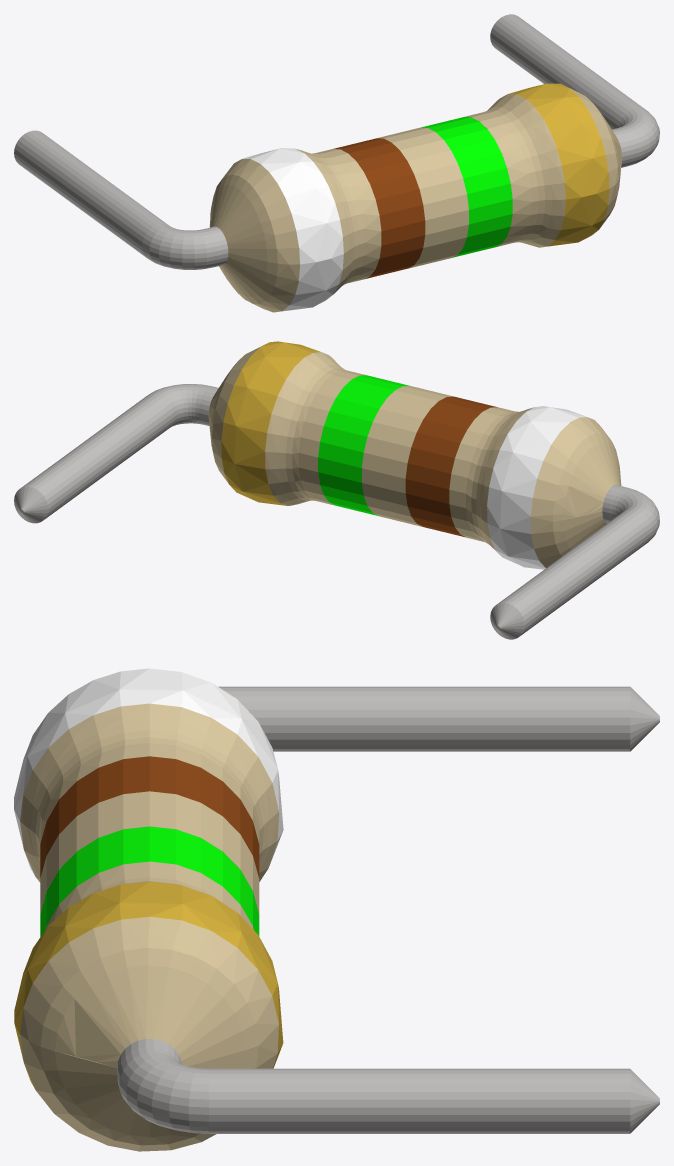
Rendered from Yageo CFR-25 Resistor Axial P7.62mm 9,1 MOhm.obj.
3 views of the same model, one above another, from view 1: azimuth 30°, elevation 25°; view 2: azimuth 150°, elevation 25°; view 3: azimuth 270°, elevation 25° (orthographic). The views are drawn at different scales.
Visible parts, largest first — view 1: Yageo_CFR-25_Resistor_Axial_P7.62mm_9,1_MOhm; view 2: Yageo_CFR-25_Resistor_Axial_P7.62mm_9,1_MOhm; view 3: Yageo_CFR-25_Resistor_Axial_P7.62mm_9,1_MOhm.
Boxes of the visible parts, box(x1,y1,x2,y2) form: Yageo_CFR-25_Resistor_Axial_P7.62mm_9,1_MOhm: box(14, 14, 659, 312); Yageo_CFR-25_Resistor_Axial_P7.62mm_9,1_MOhm: box(14, 341, 659, 639); Yageo_CFR-25_Resistor_Axial_P7.62mm_9,1_MOhm: box(14, 668, 659, 1151).
Size of the model in its own units: 0.0163 by 0.00449 by 0.0108.
